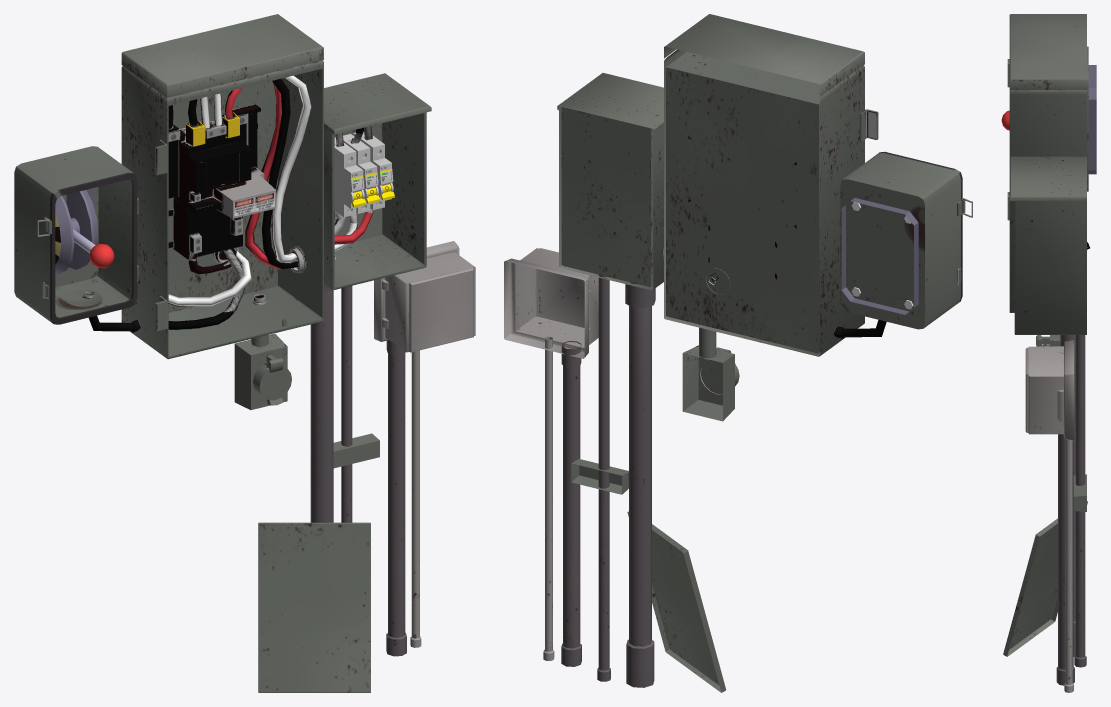
File: ElectricPanel.fbx
3 renders of one model, left to right at view 1: azimuth 30°, elevation 25°; view 2: azimuth 150°, elevation 25°; view 3: azimuth 270°, elevation 25°, orthographic. The views are drawn at different scales.
Parts seen in each view (by area): view 1: ElectricalPanel, CircuitBreaker, LeverSwitch; view 2: ElectricalPanel; view 3: ElectricalPanel.
Part boxes in pixels (left/top/right/bottom): ElectricalPanel: left=14, top=14, right=475, bottom=692; CircuitBreaker: left=334, top=137, right=365, bottom=217; LeverSwitch: left=71, top=218, right=114, bottom=268; ElectricalPanel: left=504, top=14, right=972, bottom=692; ElectricalPanel: left=1003, top=14, right=1096, bottom=692.
Size of the model in its own units: 120 by 168 by 25.91.
